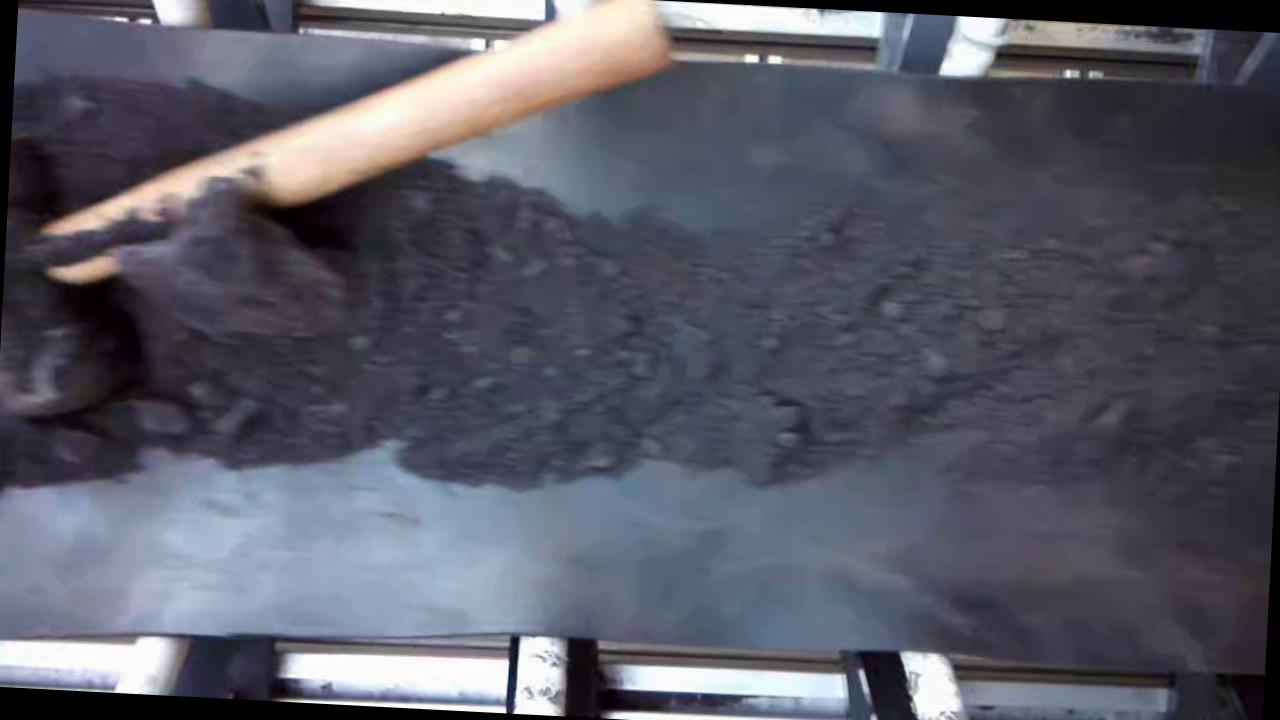conveyor: (0, 33, 1280, 666)
